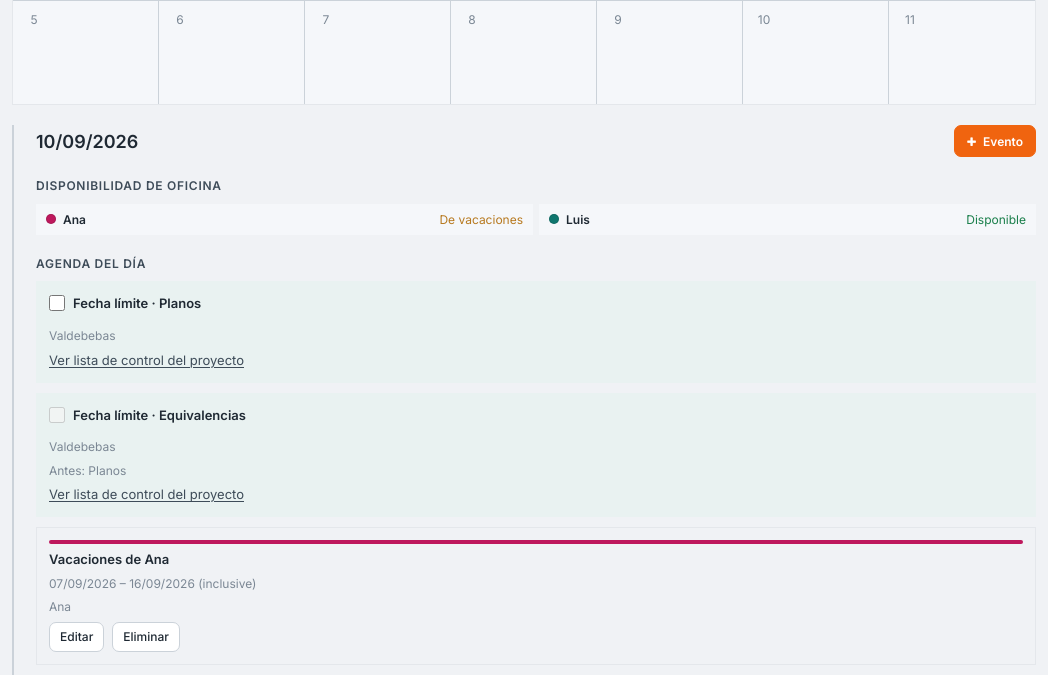
CalendarioComponent › marca los controles desde la agenda del día, respetando los pasos previos
The image size is (1048, 675).
(page scrolled)
Expected: the checkbox labelled "Fecha límite · Equivalencias" is disabled, x1=49 y1=407 x2=65 y2=423
Expected: the element with class "day-agenda" shows "Antes: Planos", x1=49 y1=463 x2=126 y2=478
Click the checkbox labelled "Fecha límite · Planos" at (57, 304), box x1=49 y1=296 x2=65 y2=312
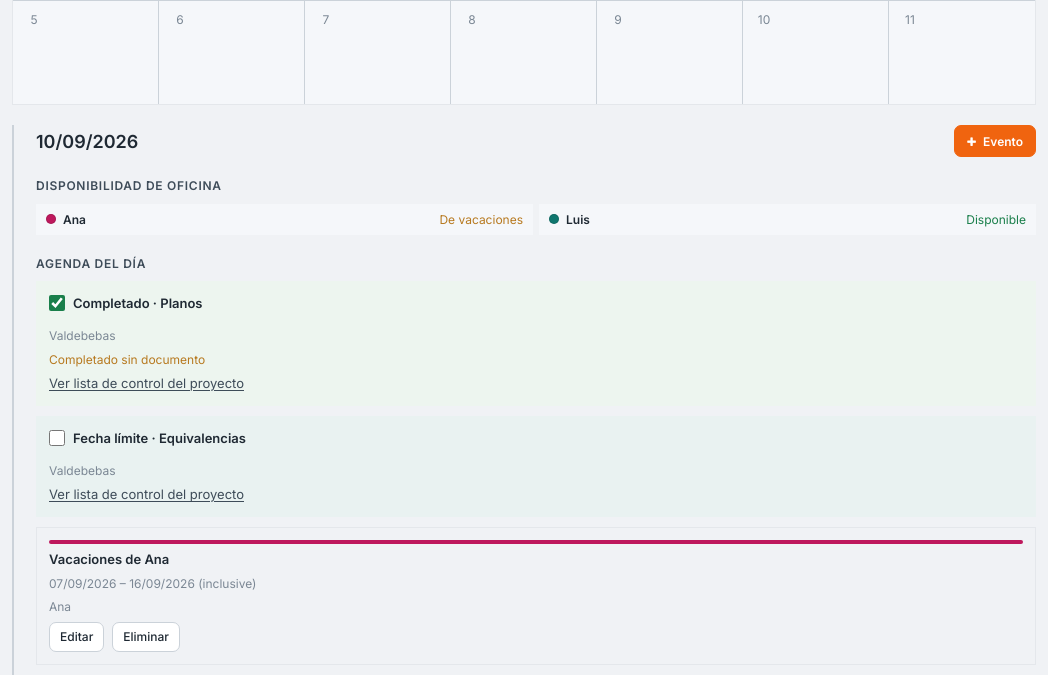
Now the checkbox labelled "Completado · Planos" is checked, box x1=49 y1=296 x2=65 y2=312
Now the element with class "day-agenda" shows "Completado · Planos", box x1=73 y1=296 x2=202 y2=312
Now the element with class "day-agenda" shows "Completado sin documento", box x1=49 y1=352 x2=205 y2=367
Click the checkbox labelled "Fecha límite · Equivalencias" at (57, 438), box x1=49 y1=430 x2=65 y2=446
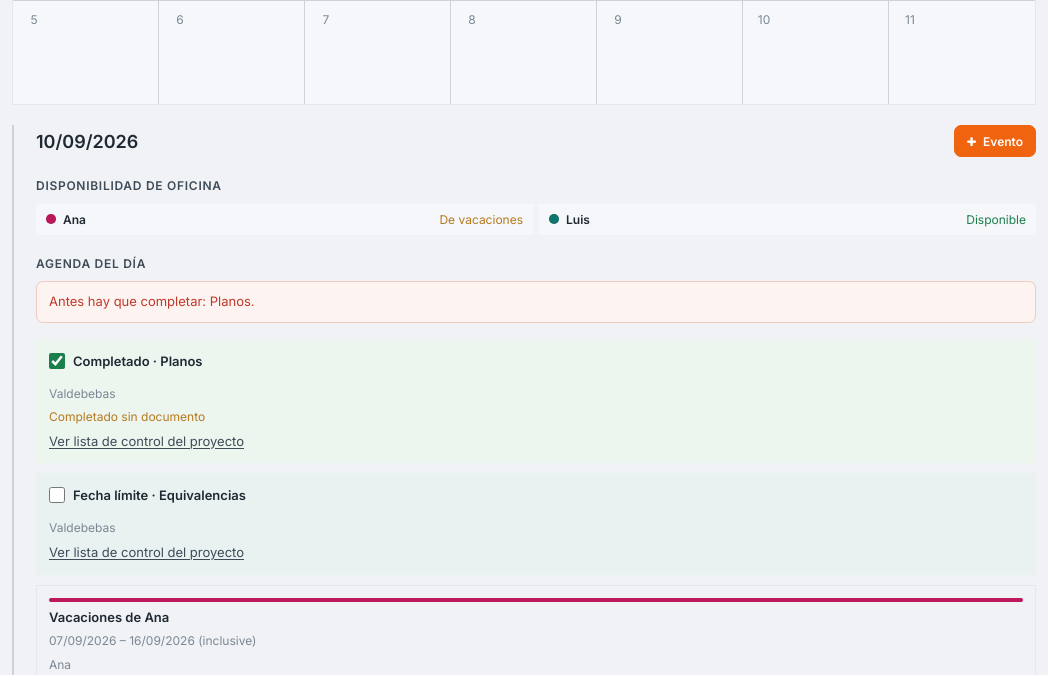
Expected: the checkbox labelled "Fecha límite · Equivalencias" is not checked, x1=49 y1=488 x2=65 y2=504
Now the message "Antes hay que completar: Planos." is shown, box x1=36 y1=282 x2=1036 y2=323
